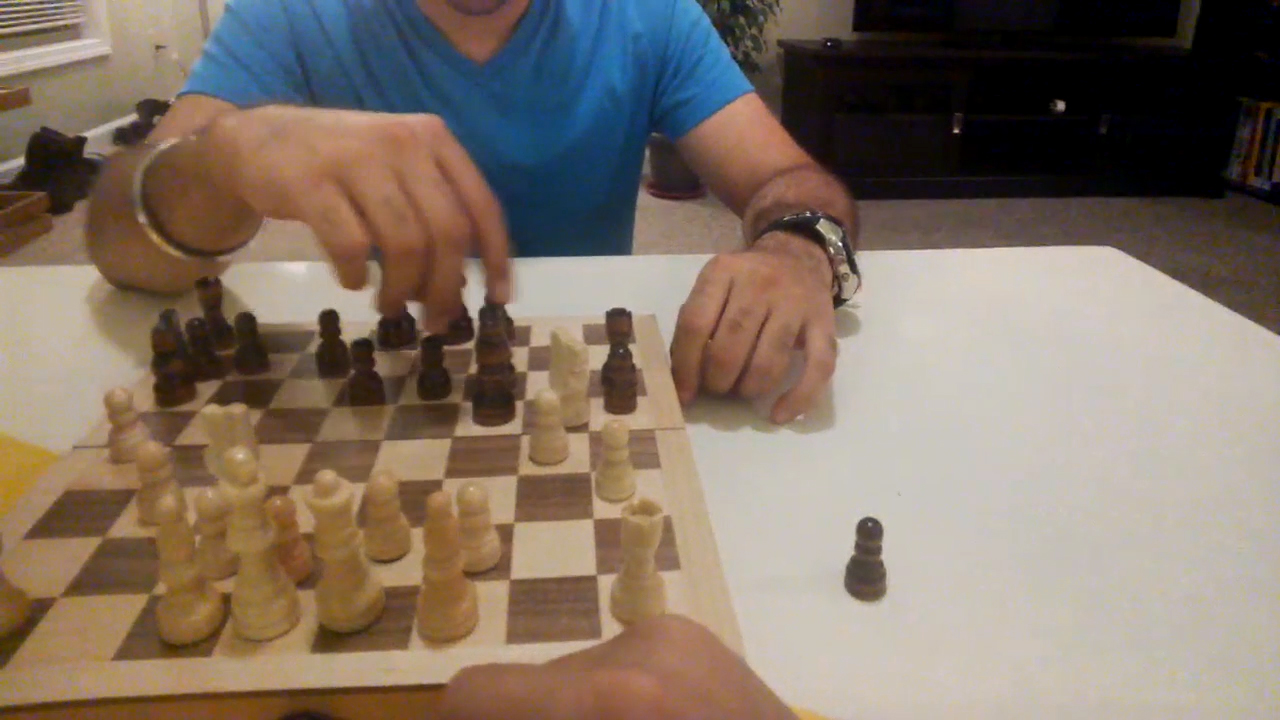hand: (207, 114, 523, 327), (446, 615, 802, 718), (669, 252, 837, 426)
